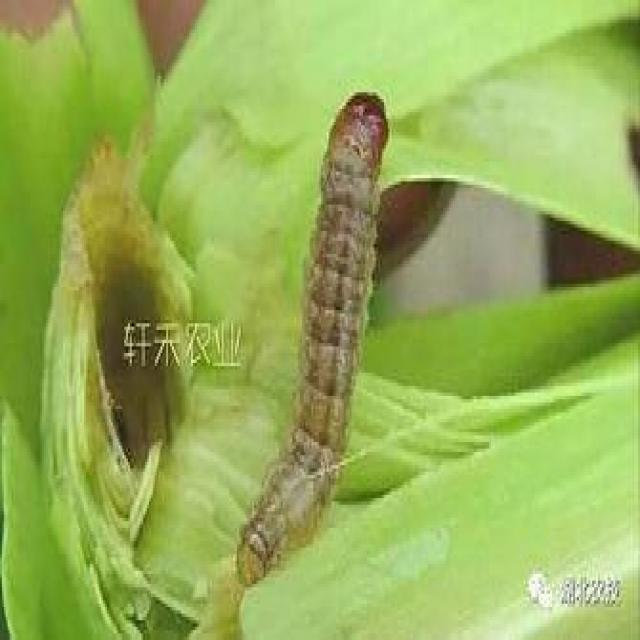BeetArmyWorm-Larva-: (232, 79, 400, 594)
